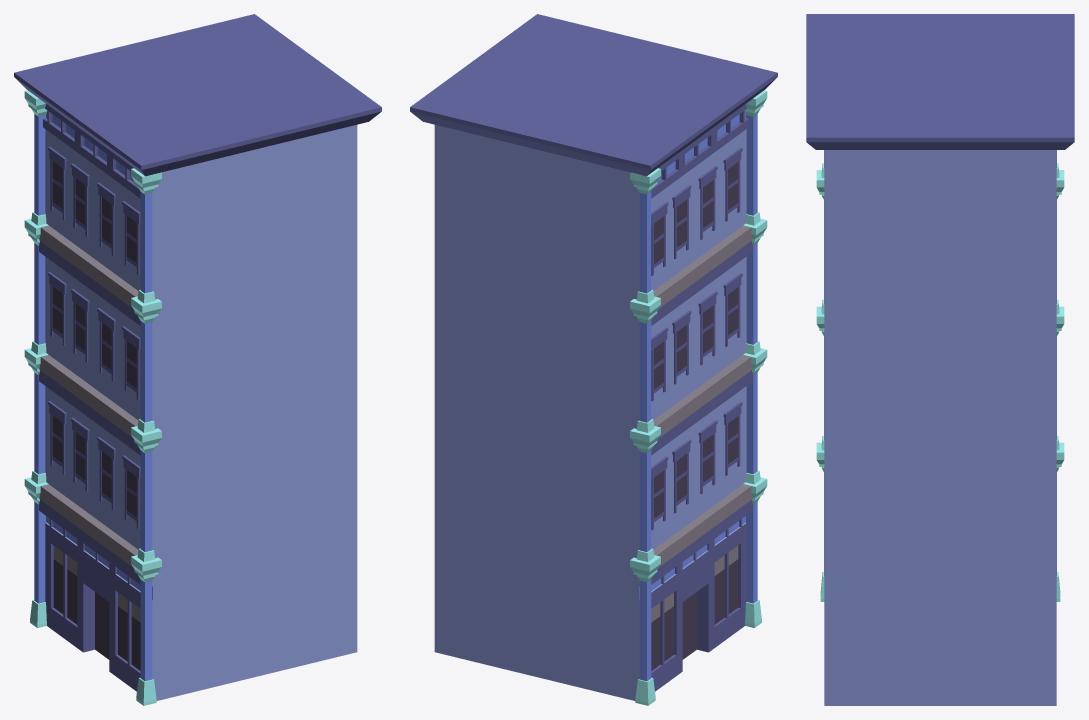
File: building 6 - blue.fbx
3 views of the same model, side by side, from view 1: azimuth 30°, elevation 25°; view 2: azimuth 150°, elevation 25°; view 3: azimuth 270°, elevation 25° (orthographic). The views are drawn at different scales.
Visible parts, largest first — view 1: pCube1, pCube2, pCube4, pCube3, pCube5, pCube6, pCube9, pCube8, pCube7; view 2: pCube1, pCube6, pCube8, pCube7, pCube9, pCube2, pCube5, pCube4, pCube3; view 3: pCube1.
Boxes of the visible parts, x1,y1,x2,y2 form: pCube1: (14, 14, 381, 700); pCube2: (131, 555, 161, 705); pCube4: (131, 296, 161, 432); pCube3: (131, 426, 161, 561); pCube5: (131, 168, 161, 303); pCube6: (24, 477, 48, 627); pCube9: (24, 90, 47, 225); pCube8: (24, 218, 48, 354); pCube7: (24, 348, 48, 484); pCube1: (410, 14, 777, 700); pCube6: (630, 555, 660, 705); pCube8: (630, 296, 660, 432); pCube7: (630, 426, 660, 561); pCube9: (630, 168, 660, 303); pCube2: (743, 477, 767, 627); pCube5: (744, 90, 767, 225); pCube4: (743, 218, 767, 354); pCube3: (743, 348, 767, 484); pCube1: (806, 14, 1074, 705).
Bounding box in the file's own units: 10.13 × 22.03 × 9.29.
